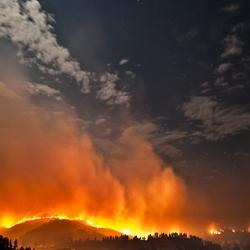fire: (92, 227, 163, 239), (2, 213, 28, 229)
